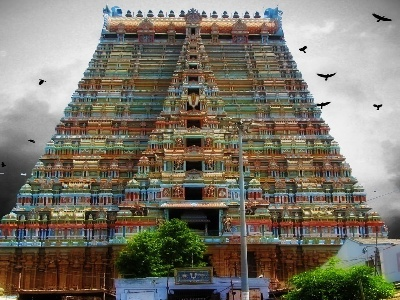gopura: (24, 11, 382, 233)
